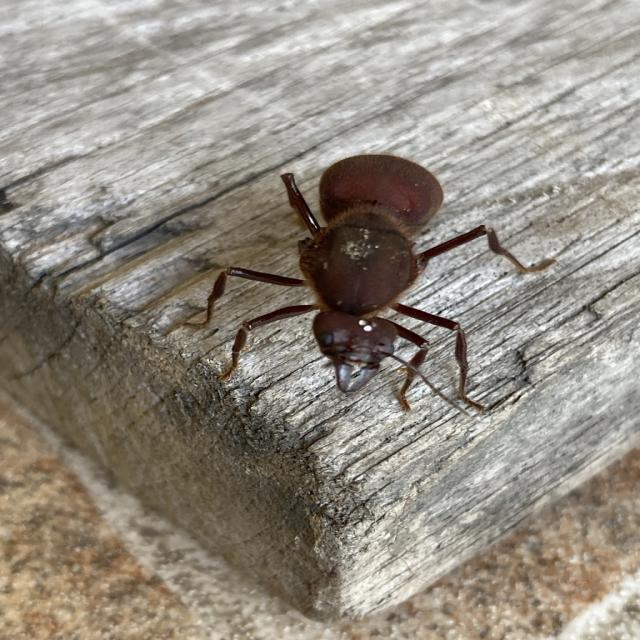Alive-Female-Dealate: (158, 154, 558, 416)
